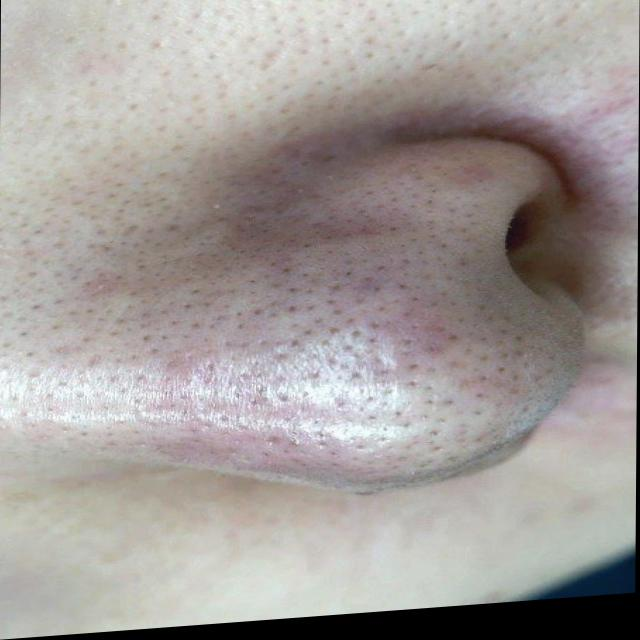7: (281, 174, 351, 204), (78, 267, 132, 301), (199, 190, 235, 231)
dark spot: (30, 169, 164, 249), (453, 335, 544, 422), (145, 376, 242, 454), (20, 363, 128, 433), (356, 301, 450, 381), (139, 238, 228, 319), (252, 370, 346, 439), (358, 180, 450, 247), (143, 323, 256, 377), (348, 380, 445, 442), (37, 299, 130, 362), (257, 441, 363, 493), (241, 267, 329, 328), (267, 319, 353, 372), (247, 210, 329, 265), (352, 251, 432, 303), (370, 434, 452, 484)
